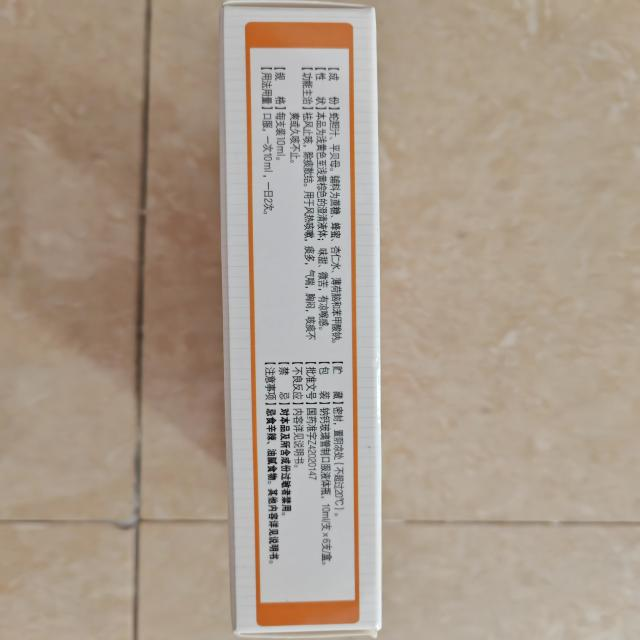box: (200, 1, 393, 640)
